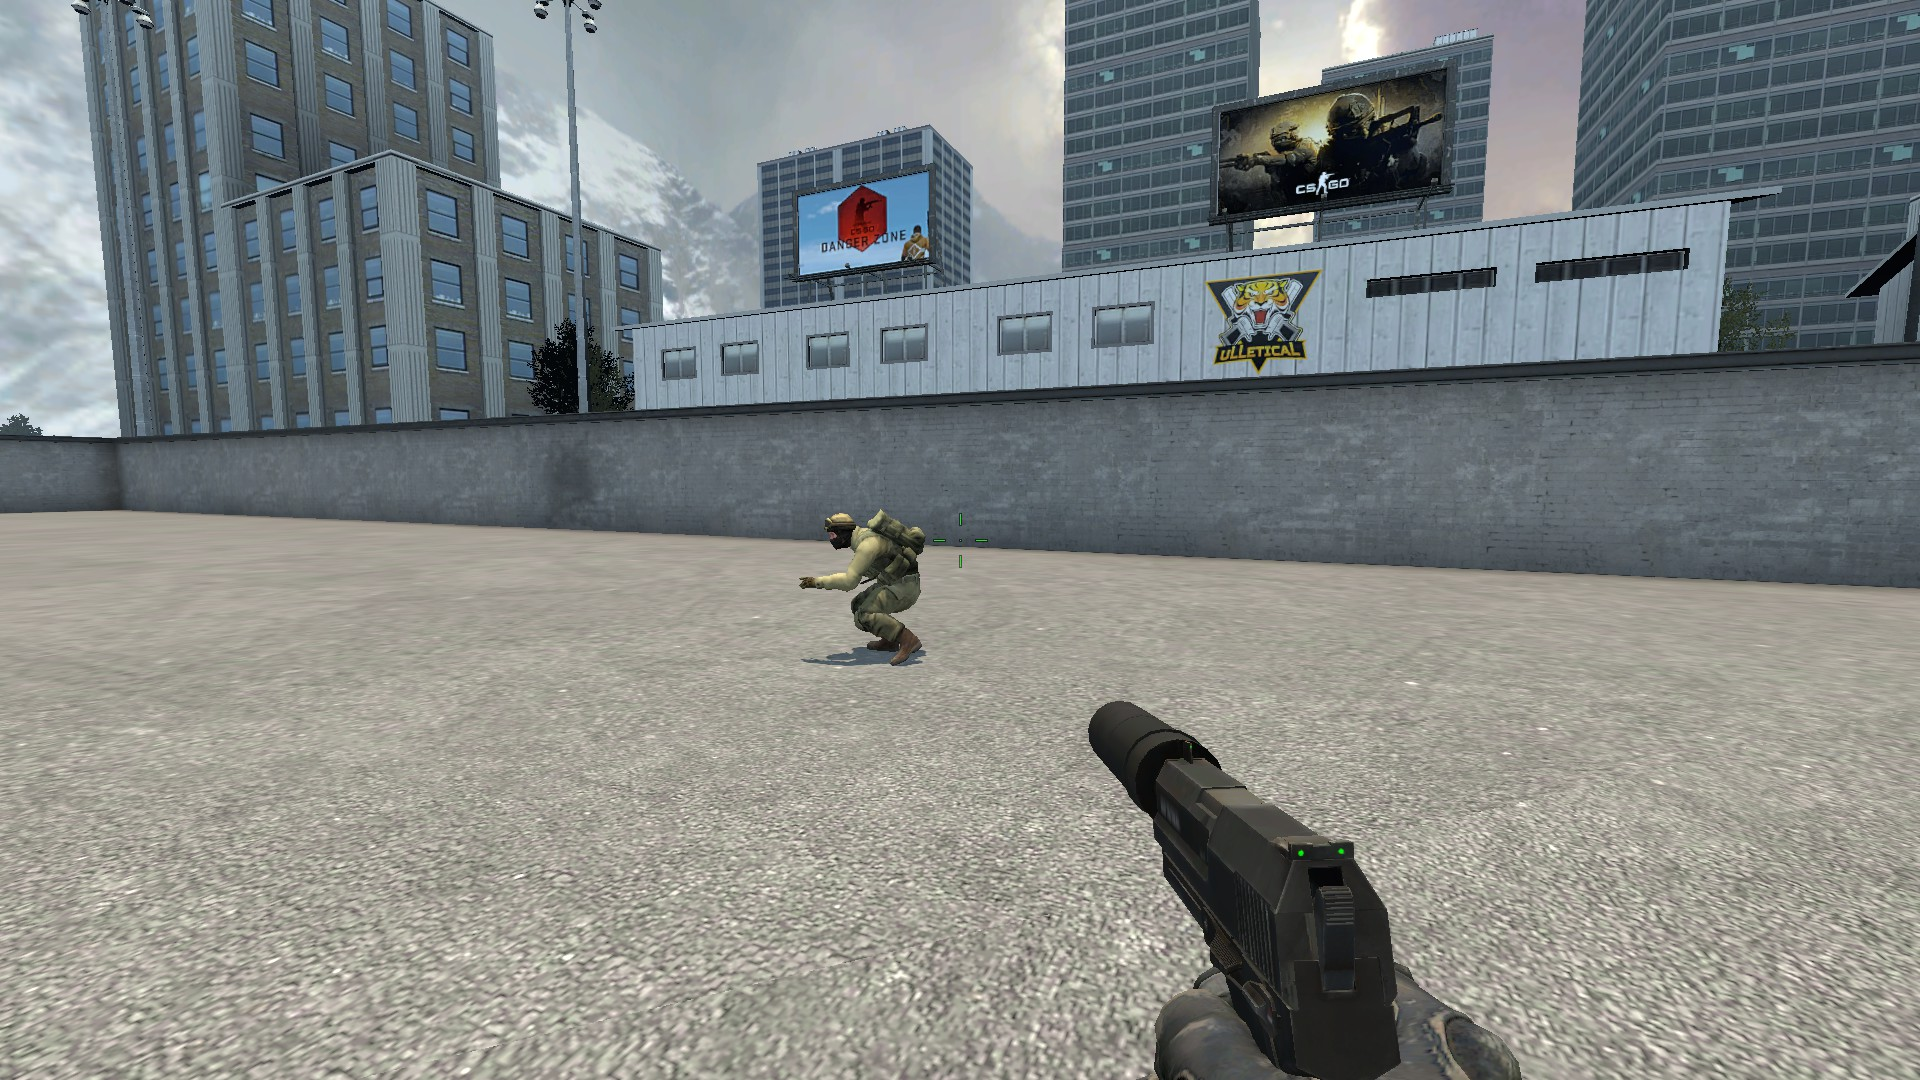ct: (796, 506, 936, 670)
ct head: (818, 504, 864, 554)
